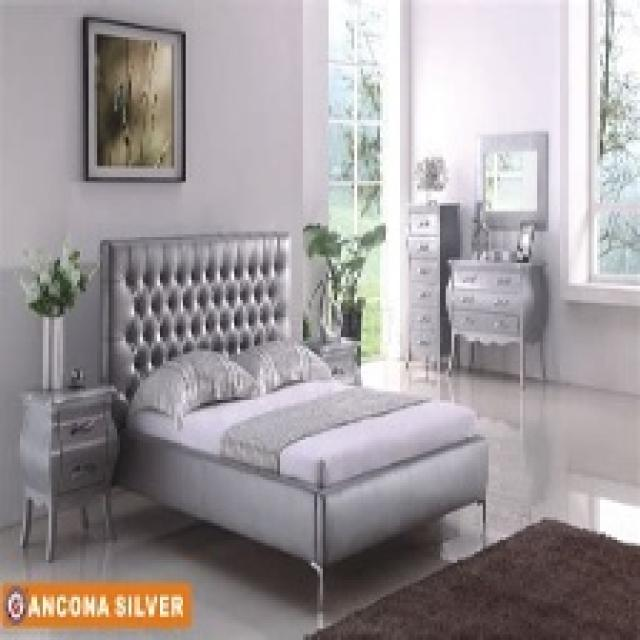Bed: (97, 228, 489, 632)
